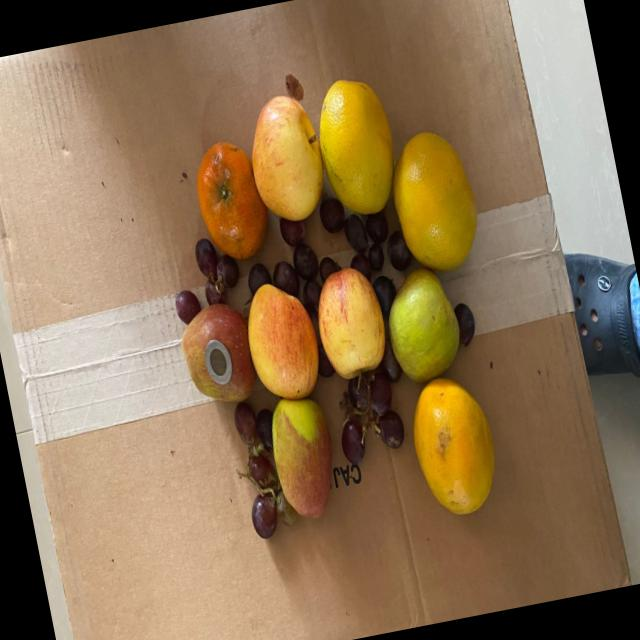moneda: (202, 338, 239, 388)
